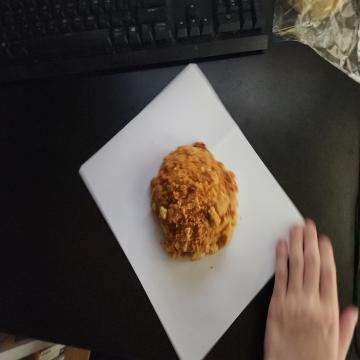soboru_bread: (147, 138, 238, 262)
